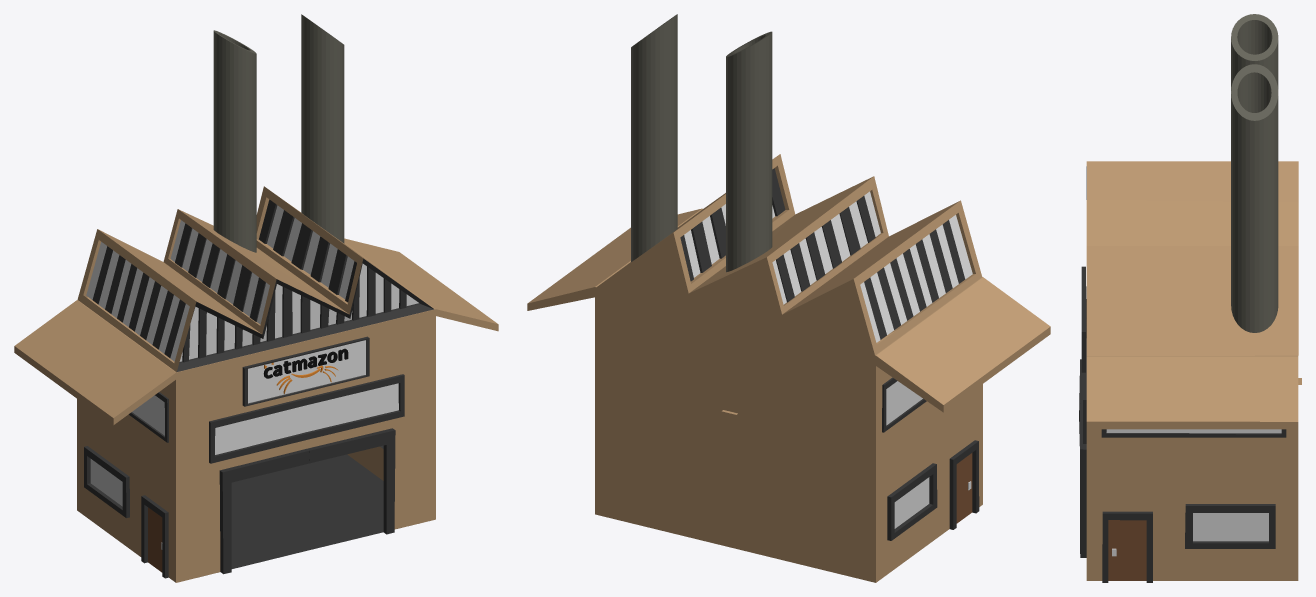
File: box_factory_f 1.fbx
The picture shows the model from 3 angles, left to right: view 1: azimuth 30°, elevation 25°; view 2: azimuth 150°, elevation 25°; view 3: azimuth 270°, elevation 25°; orthographic projection. The views are drawn at different scales.
Visible parts, largest first — view 1: box, toit, panneau, Text.001; view 2: box, toit; view 3: box, toit, panneau.
Part boxes in pixels (bbox=[...]): box: bbox=[14, 238, 498, 582]; toit: bbox=[77, 14, 433, 372]; panneau: bbox=[242, 336, 369, 406]; Text.001: bbox=[263, 348, 348, 378]; box: bbox=[527, 208, 1050, 582]; toit: bbox=[597, 14, 982, 414]; box: bbox=[1079, 299, 1298, 582]; toit: bbox=[1086, 14, 1301, 384]; panneau: bbox=[1081, 266, 1085, 372].
Bounding box in the file's own units: 5548 × 6372 × 2607.
